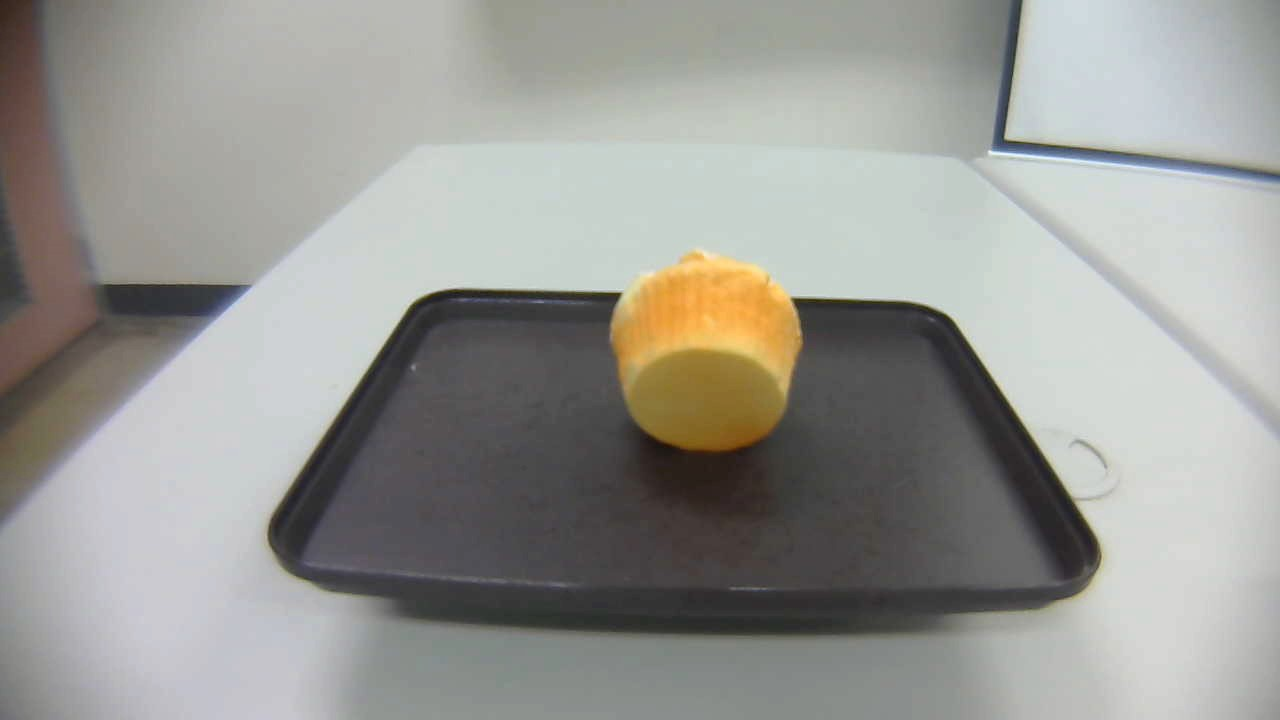cupcake: (607, 247, 805, 454)
